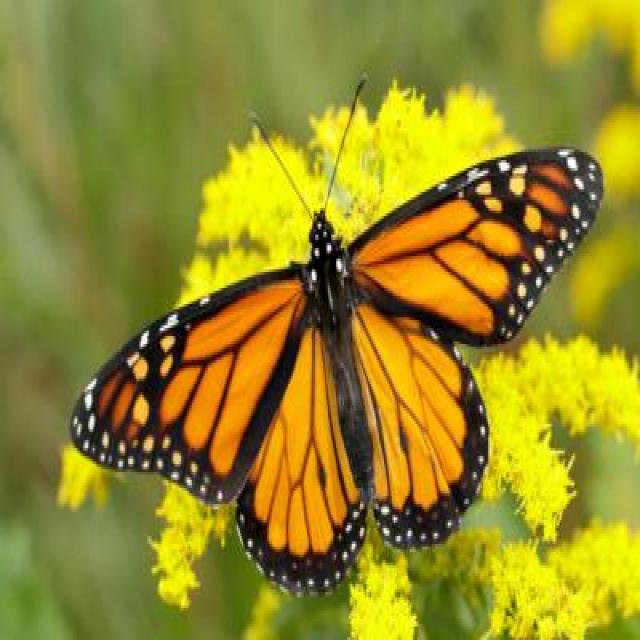antennae: (242, 75, 367, 222)
body: (304, 208, 376, 508)
insect: (69, 73, 601, 599)
wings: (348, 150, 603, 546), (72, 268, 366, 596)
